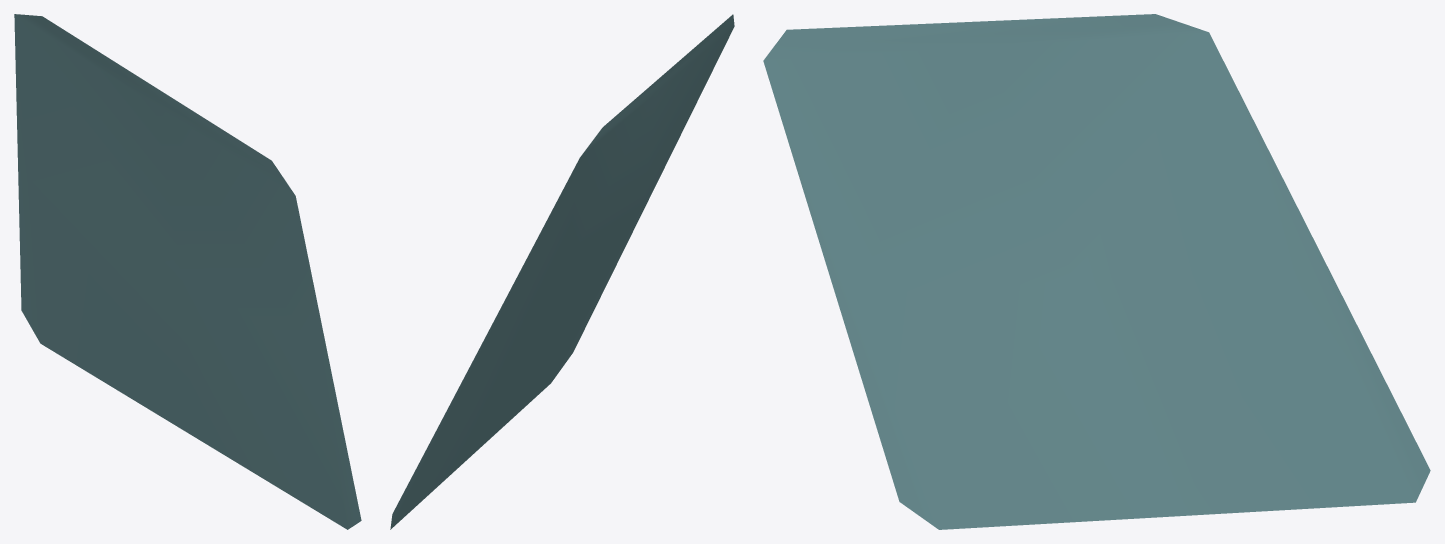
Rendered from Offroad_2_Window_Tessellate_RL.fbx.
3 views of the same model, side by side, from view 1: azimuth 30°, elevation 25°; view 2: azimuth 150°, elevation 25°; view 3: azimuth 270°, elevation 25° (orthographic). The views are drawn at different scales.
Visible parts, largest first — view 1: Offroad_2_Window_Tessellate_RL; view 2: Offroad_2_Window_Tessellate_RL; view 3: Offroad_2_Window_Tessellate_RL.
Boxes of the visible parts, x1,y1,x2,y2 form: Offroad_2_Window_Tessellate_RL: (14, 14, 361, 529); Offroad_2_Window_Tessellate_RL: (390, 14, 734, 529); Offroad_2_Window_Tessellate_RL: (763, 14, 1430, 529).
Size of the model in its own units: 11.13 by 26.91 by 37.63.
